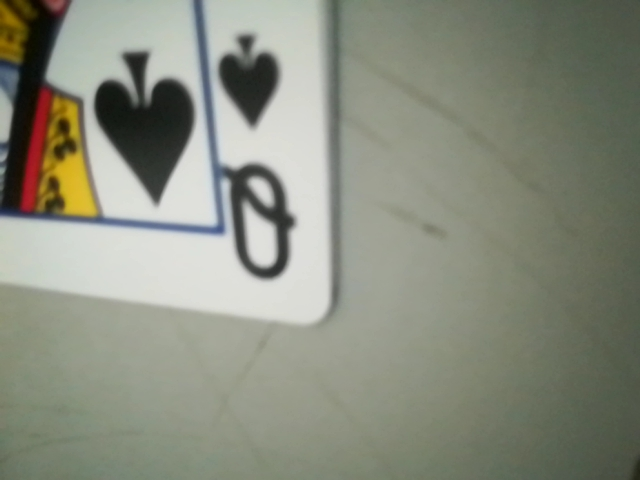ht q: (185, 30, 289, 305)
